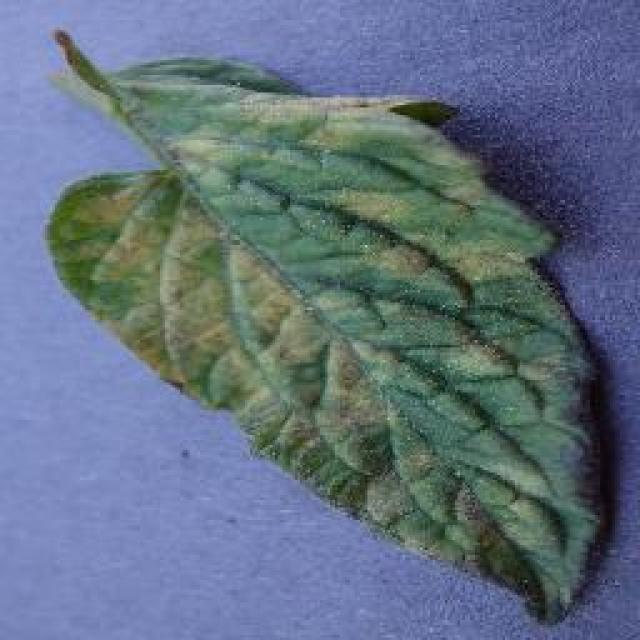Tomato___Leaf_Mold: (48, 35, 600, 615)
